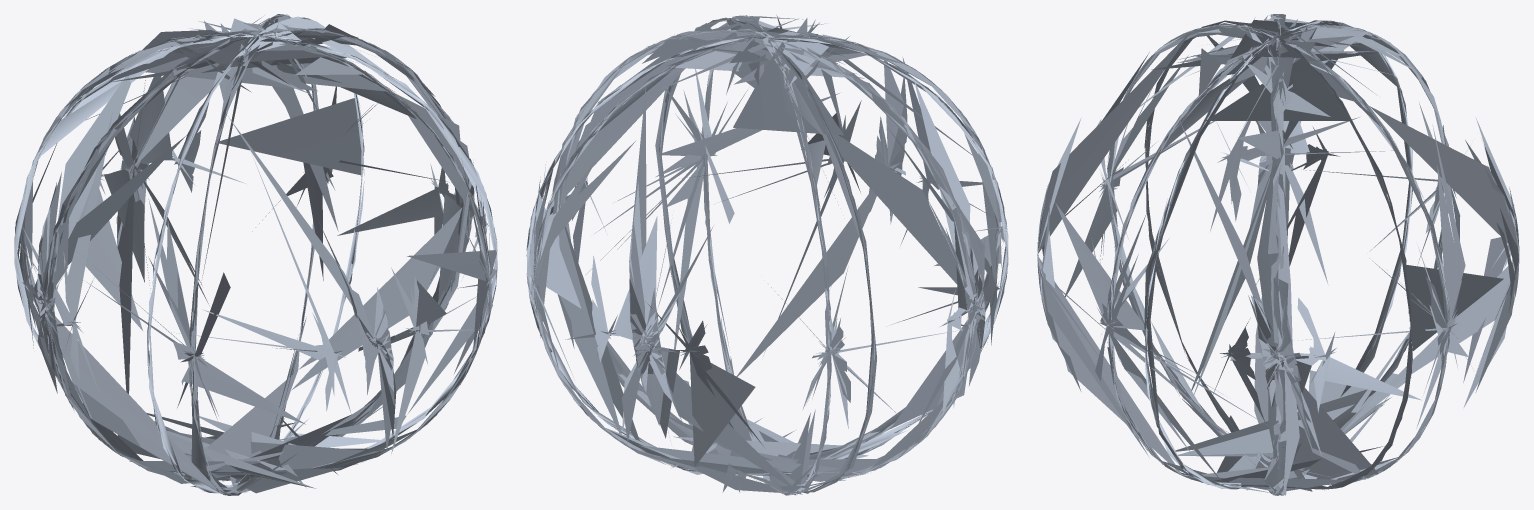
File: stage6.glb
The picture shows the model from 3 angles, left to right: view 1: azimuth 30°, elevation 25°; view 2: azimuth 150°, elevation 25°; view 3: azimuth 270°, elevation 25°; orthographic projection.
Visible parts, largest first — view 1: dsf-6-structural; view 2: dsf-6-structural; view 3: dsf-6-structural.
Boxes of the visible parts, bbox=[...] form: dsf-6-structural: bbox=[14, 14, 497, 495]; dsf-6-structural: bbox=[526, 15, 1008, 495]; dsf-6-structural: bbox=[1037, 14, 1519, 495].
Bounding box in the file's own units: 2 × 2 × 2.
